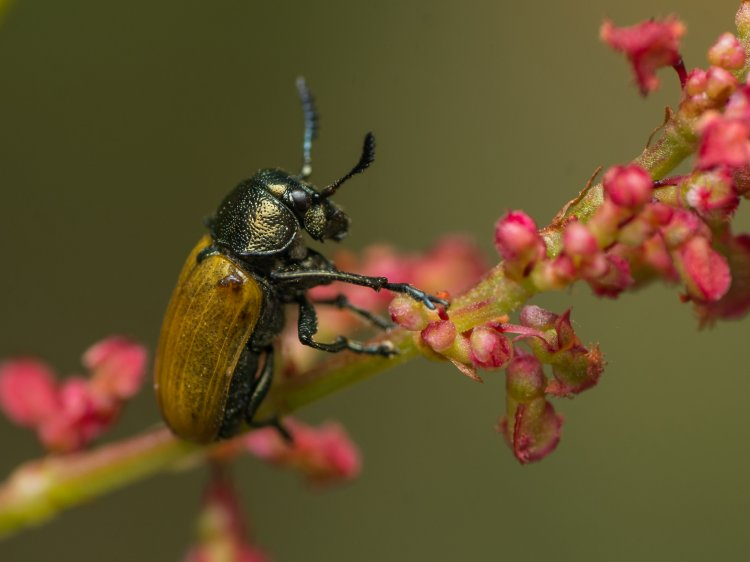Labidostomis_longimana: (145, 71, 449, 443)
